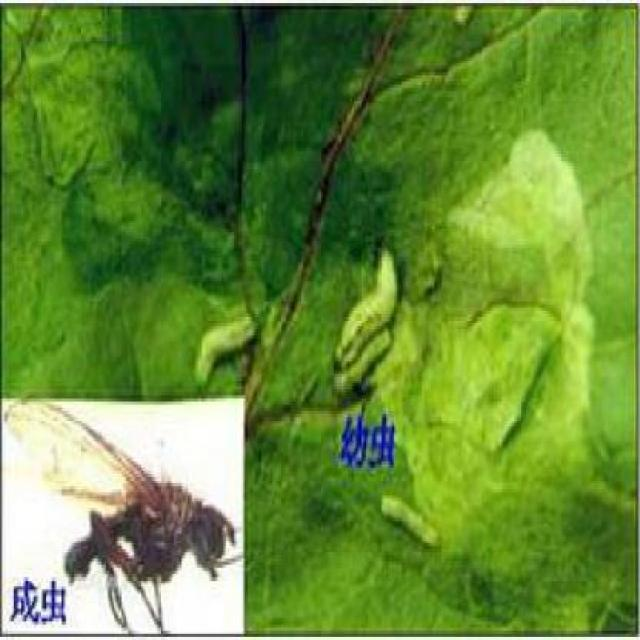whorl-maggot: (331, 232, 403, 400), (192, 303, 263, 386), (374, 480, 446, 551)
